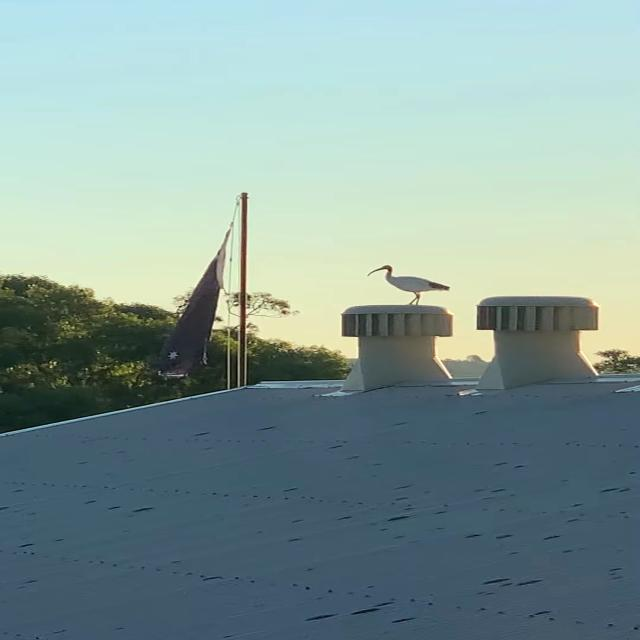Birds-Ibis: (365, 262, 452, 308)
